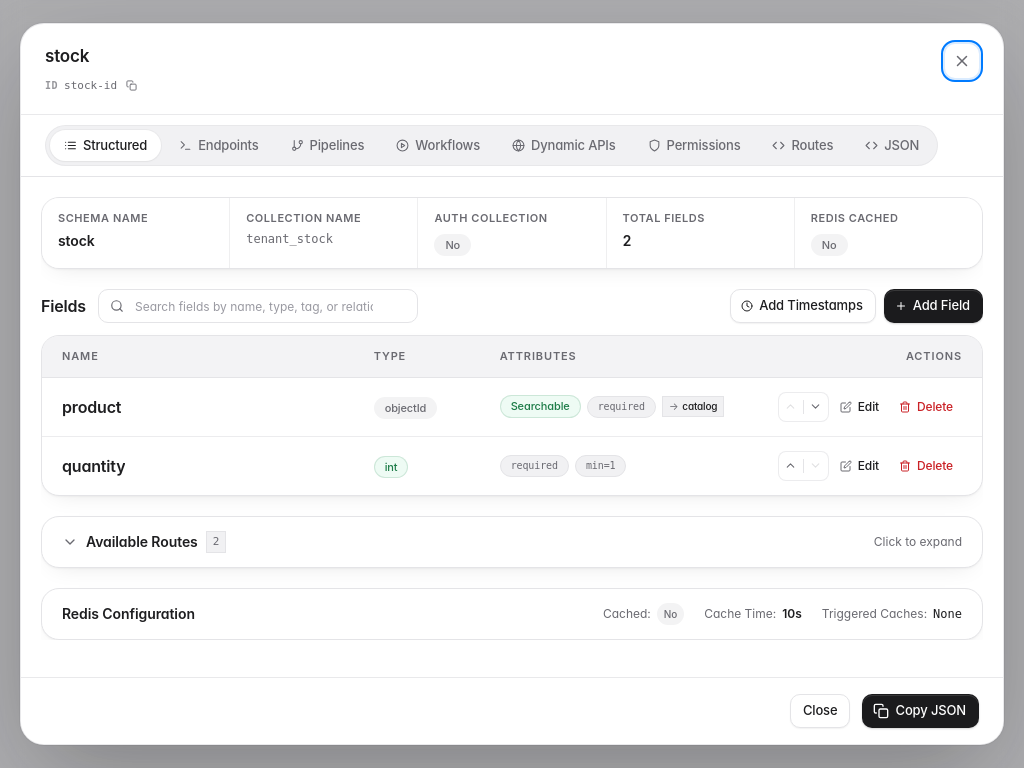
Test: ContainerDetailsModal › omits paused function routes from the overview and its route count
Expected: the text "2" next to "Available Routes" is shown, [213,534,219,548]
Click the heading "Available Routes 2 Click to expand": coordinates (142, 541) [62,530,962,553]
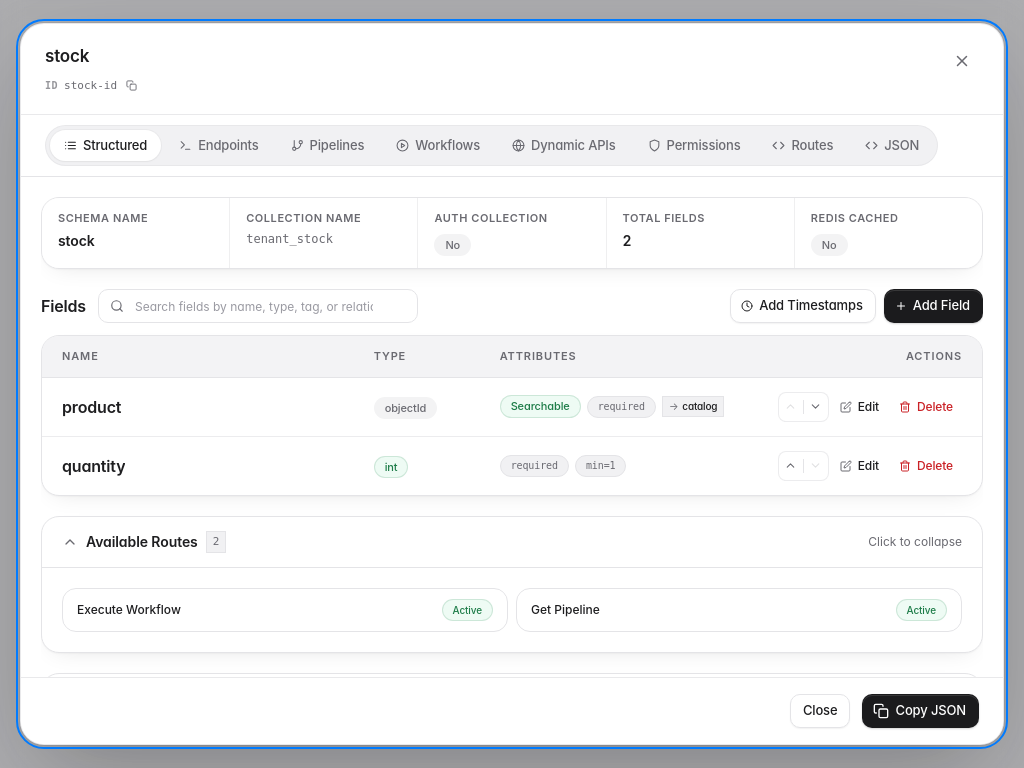
Expected: the tab "Workflows" is shown, [382,130,494,161]
Now the text "Execute Workflow" is shown, box [77,602,181,618]
Now the text "Get Pipeline" is shown, box [531,602,600,618]
